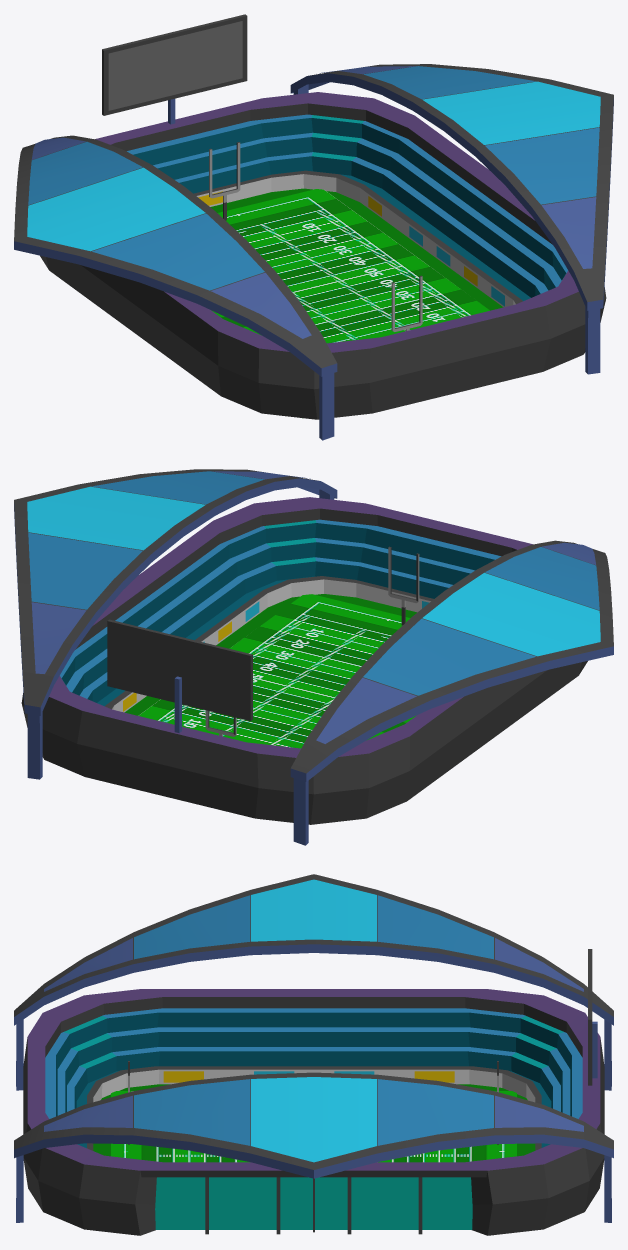
The model's file is StaduimAmericanFootball.fbx.
The picture shows the model from 3 angles, top to bottom: view 1: azimuth 30°, elevation 25°; view 2: azimuth 150°, elevation 25°; view 3: azimuth 270°, elevation 25°; orthographic projection.
Visible parts, largest first — view 1: stadiums.002; view 2: stadiums.002; view 3: stadiums.002.
Part boxes in pixels (x1,y1,x2,y2): stadiums.002: (14, 14, 613, 440); stadiums.002: (14, 469, 613, 845); stadiums.002: (14, 874, 613, 1235).
Size of the model in its own units: 825 by 219 by 707.
